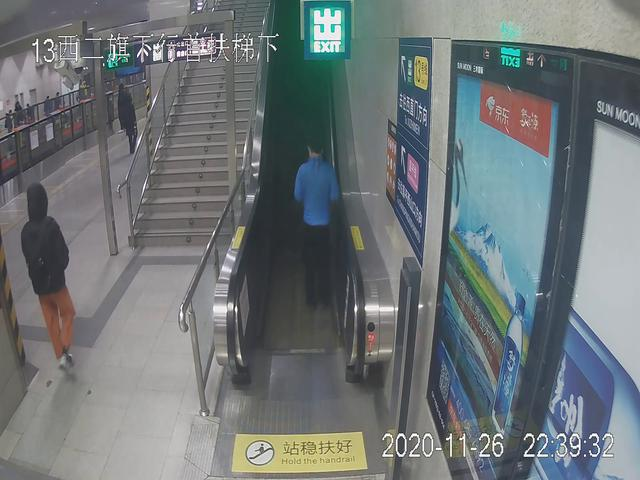person: (18, 182, 81, 370), (291, 139, 341, 314), (115, 85, 142, 154)
